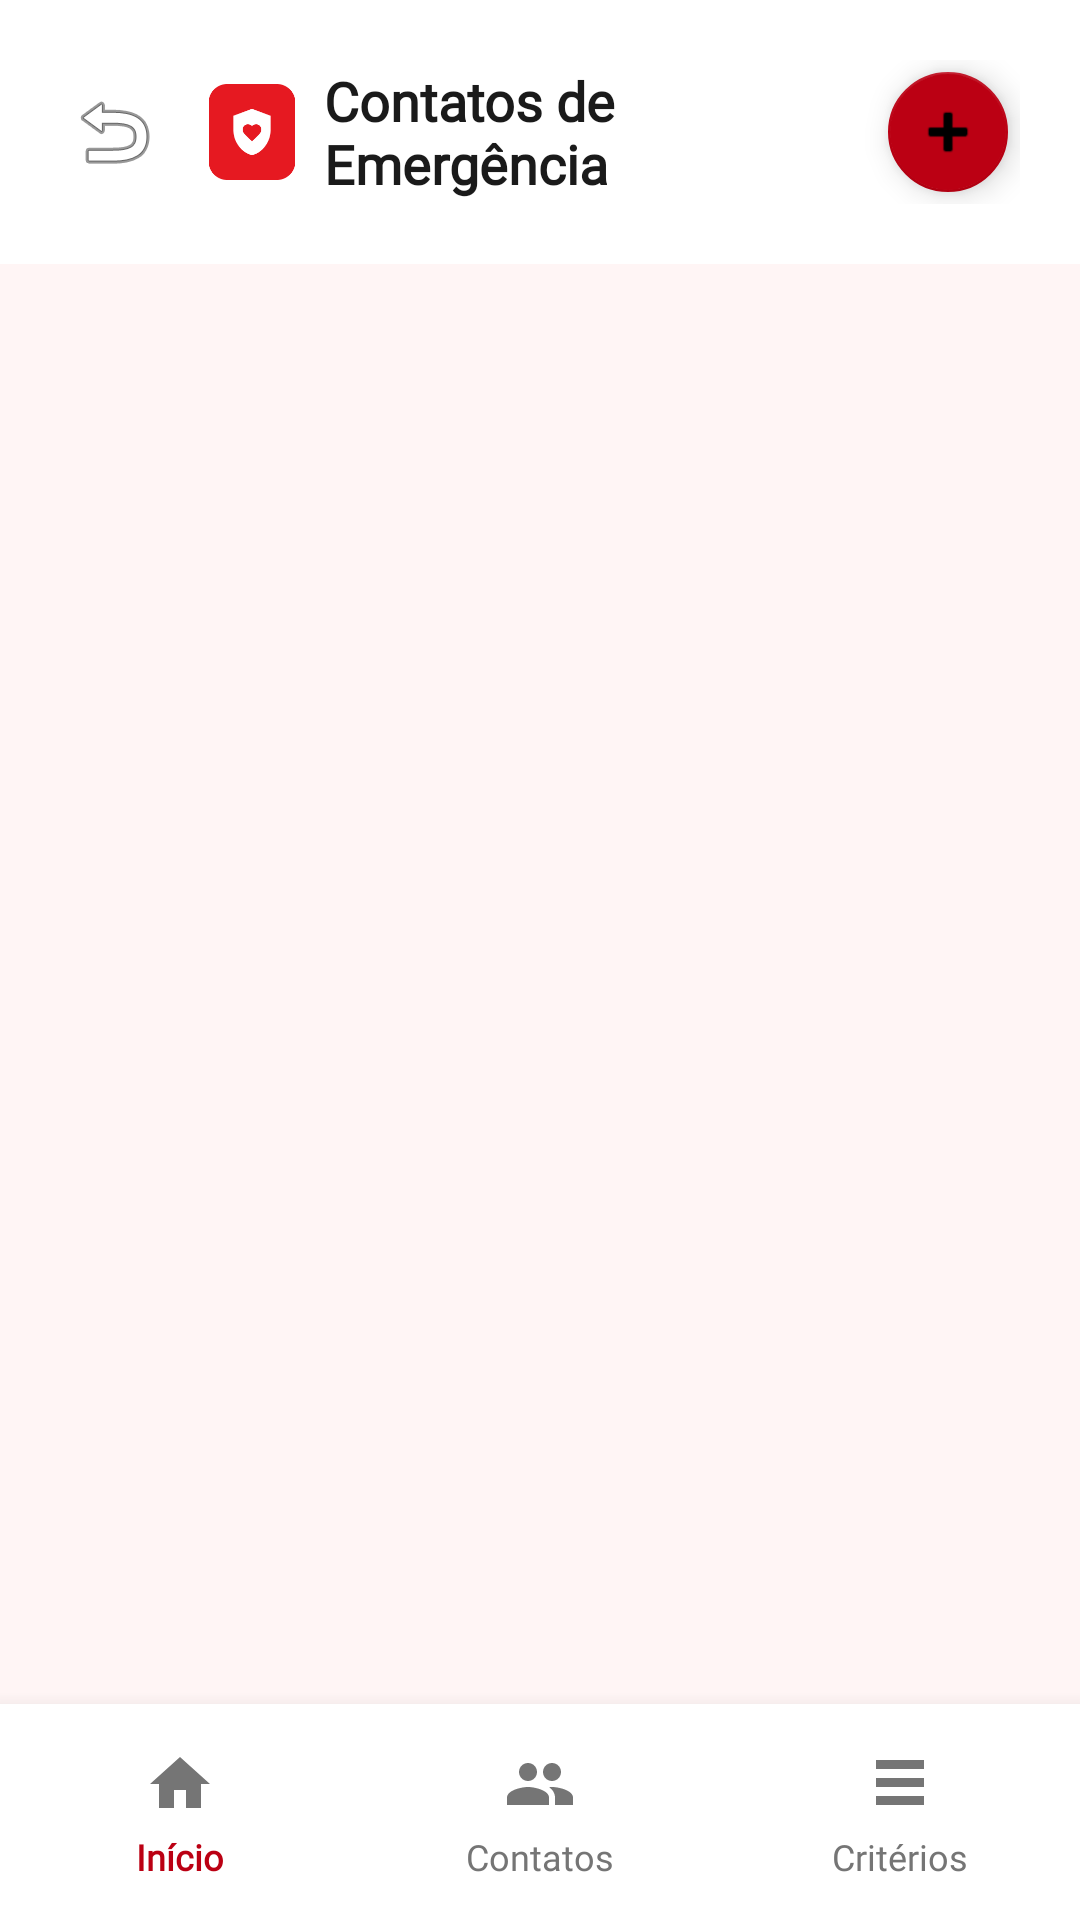

Point at icon controls on the screen. Image size 1080*1920, points as [x,y].
add: [949,132]
Voltar: [115,132]
